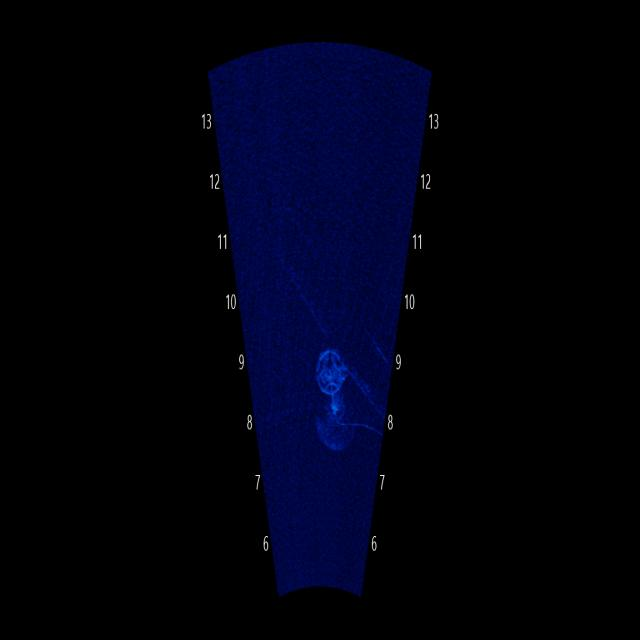circle: (306, 331, 353, 412)
